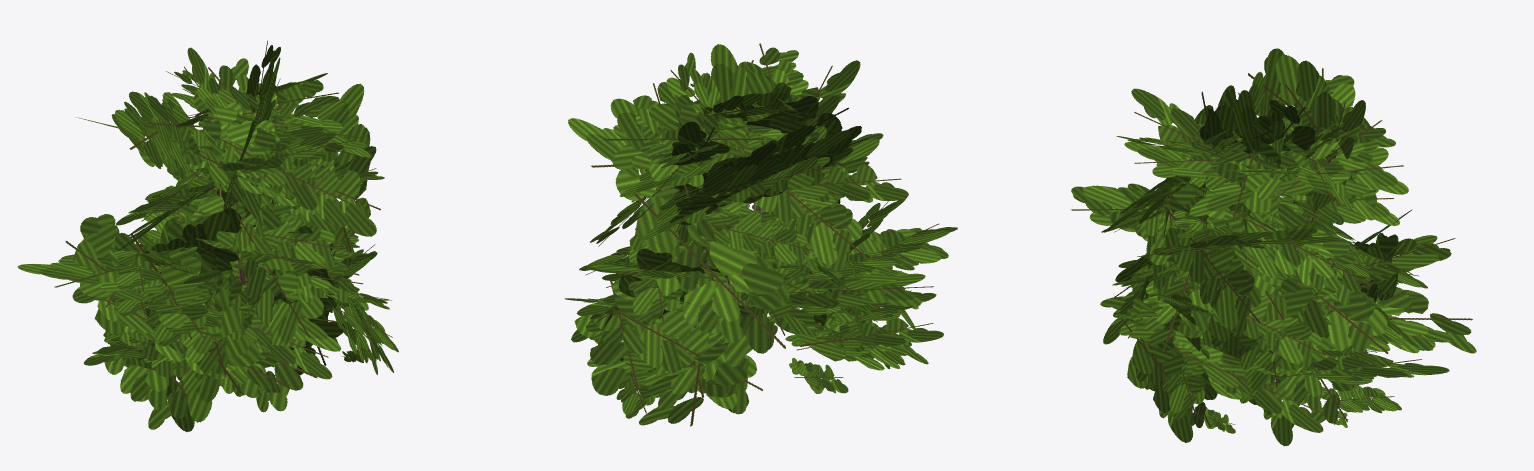
The model's file is mid.glb.
The picture shows the model from 3 angles, left to right: view 1: azimuth 30°, elevation 25°; view 2: azimuth 150°, elevation 25°; view 3: azimuth 270°, elevation 25°; orthographic projection.
Visible parts, largest first — view 1: foliage.001; view 2: foliage.001; view 3: foliage.001.
Part boxes in pixels (box(x1,y1,x2,y2)): foliage.001: box(17, 40, 398, 431); foliage.001: box(564, 43, 957, 426); foliage.001: box(1070, 48, 1476, 446).
Size of the model in its own units: 11.4 by 8.85 by 11.49.
Materials: 2 (1 with a texture image).
